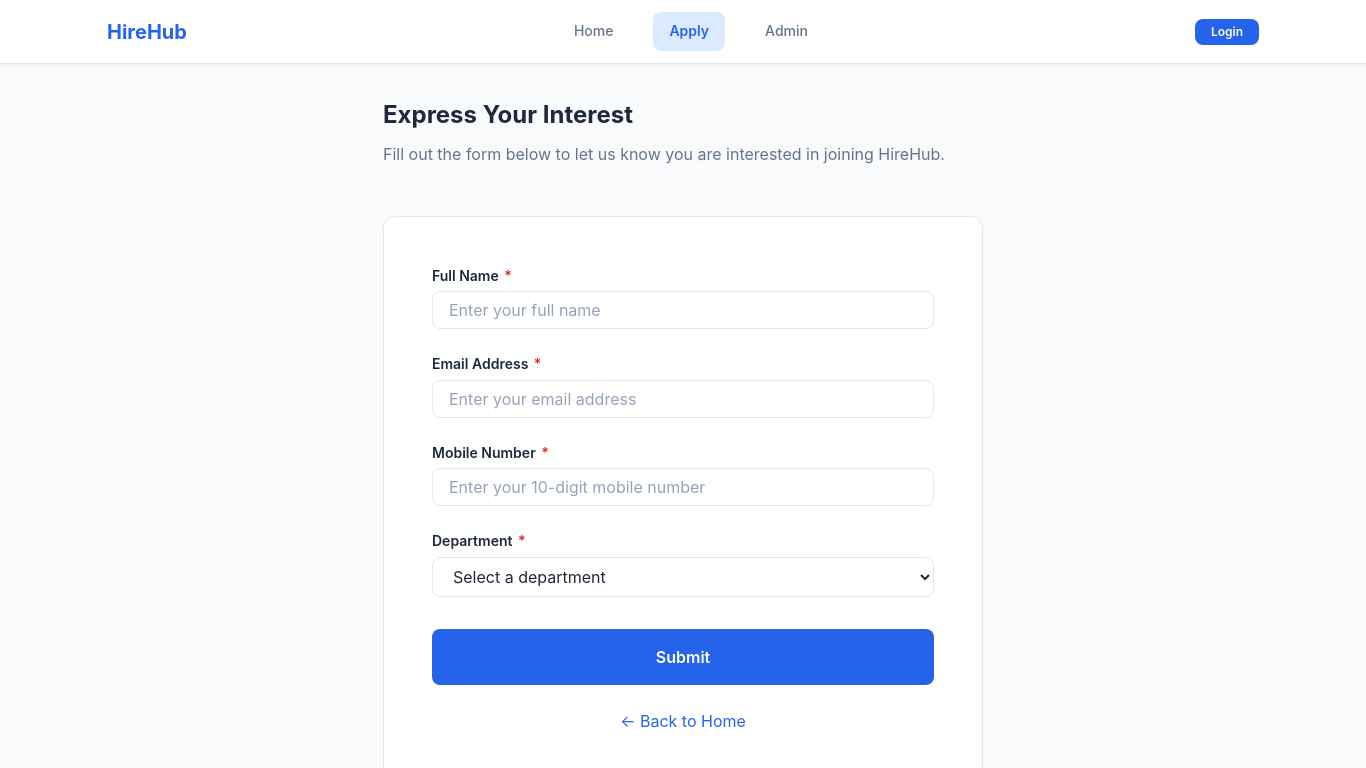
Test: App › Navigation between pages › navigates to admin login when clicking Admin link while not authenticated
The image size is (1366, 768).
Click the link "Admin".
click(787, 31)  # box top-left (765, 22), bottom-right (808, 39)
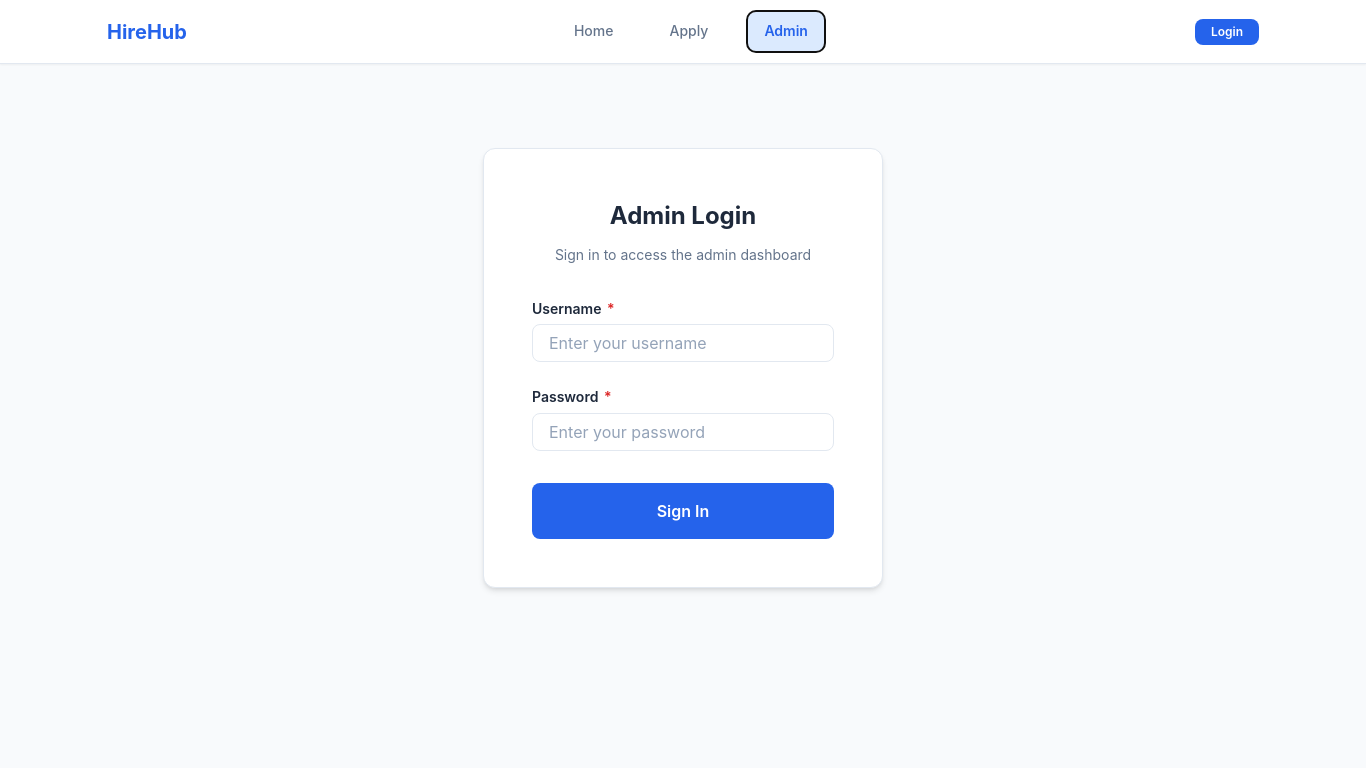
Now the heading "Admin Login" is shown, box top-left (610, 201), bottom-right (756, 230)
Now the text "Sign in to access the admin dashboard" is shown, box top-left (555, 246), bottom-right (811, 263)
